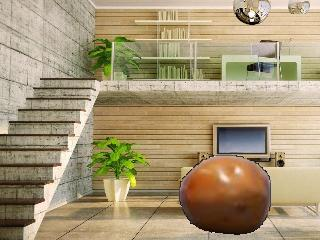potato: (176, 152, 274, 238)
